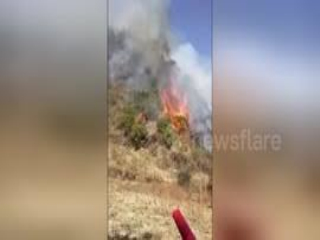fire: (159, 89, 192, 132)
smoke: (124, 5, 204, 105)
